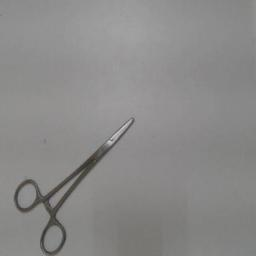Mayo Needle Holder: (9, 102, 147, 254)
